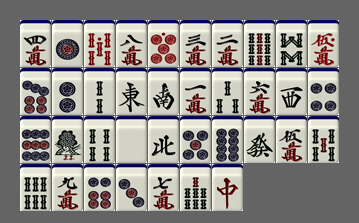0m: (308, 20, 339, 67)
0p: (148, 20, 179, 67)
0s: (84, 20, 115, 67)
1m: (180, 68, 211, 115)
1p: (52, 20, 83, 67)
1s: (52, 116, 83, 163)
1z: (116, 68, 147, 115)
2m: (212, 20, 243, 67)
2p: (52, 68, 83, 115)
2s: (84, 68, 115, 115)
2z: (148, 68, 179, 115)
3m: (180, 20, 211, 67)
3p: (116, 164, 147, 211)
3s: (212, 68, 243, 115)
3z: (276, 68, 307, 115)
4m: (20, 20, 51, 67)
4p: (308, 68, 339, 115)
4s: (84, 116, 115, 163)
4z: (148, 116, 179, 163)
5m: (276, 116, 307, 163)
5p: (180, 116, 211, 163)
5s: (308, 116, 339, 163)
5z: (116, 116, 147, 163)
6m: (244, 68, 275, 115)
6p: (84, 164, 115, 211)
6s: (20, 164, 51, 211)
6z: (244, 116, 275, 163)
7m: (148, 164, 179, 211)
7p: (20, 68, 51, 115)
7s: (180, 164, 211, 211)
7z: (212, 164, 243, 211)
8m: (116, 20, 147, 67)
8p: (212, 116, 243, 163)
8s: (276, 20, 307, 67)
9m: (52, 164, 83, 211)
9p: (20, 116, 51, 163)
9s: (244, 20, 275, 67)
